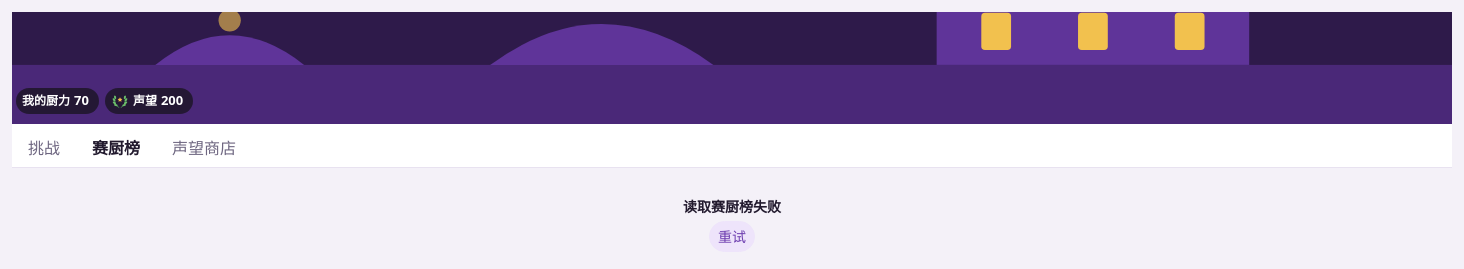
Test case: TowerView › 赛厨榜读不到：写明并能重试（P9 终审 I5）
Expected: the element with test id "rank-failed" shows "读取赛厨榜失败", [683,197,781,216]
Click the button "重试" at coordinates (732, 236), box [709,221,755,252]
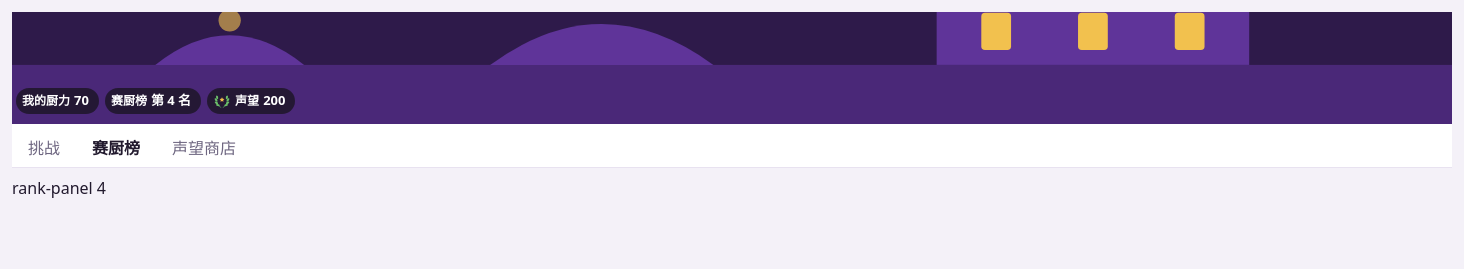
Now the text "rank-panel" is shown, box [12,177,106,199]
